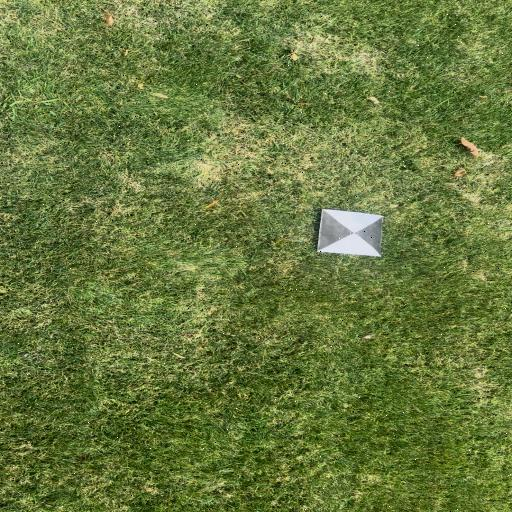target: (318, 210, 384, 256)
